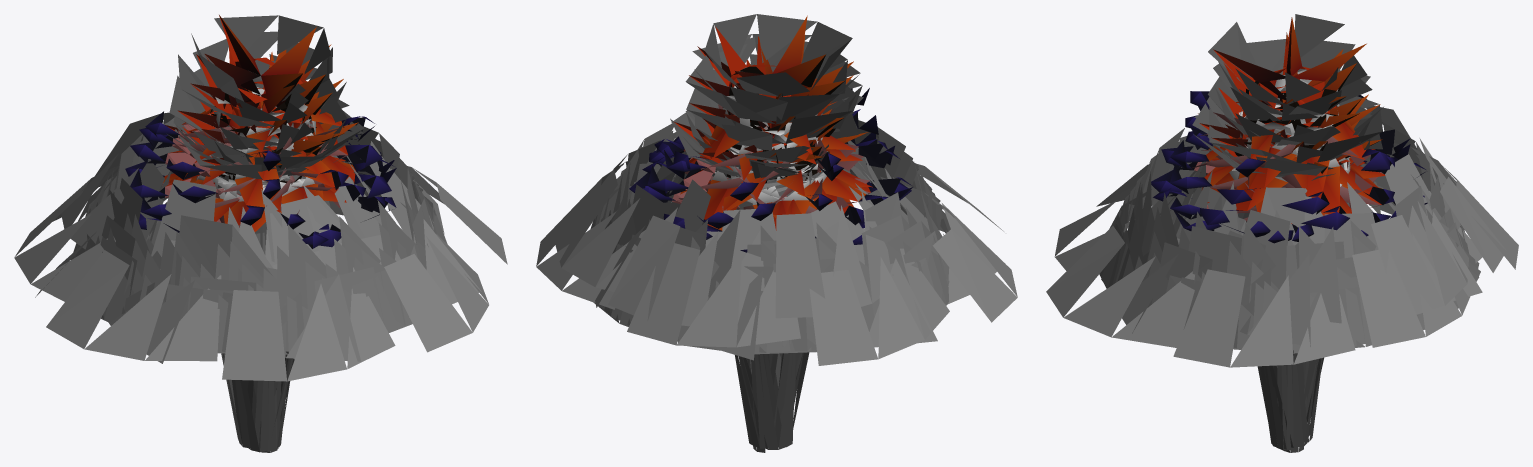
Rendered from spin.glb.
3 views of the same model, side by side, from view 1: azimuth 30°, elevation 25°; view 2: azimuth 150°, elevation 25°; view 3: azimuth 270°, elevation 25° (orthographic).
Visible parts, largest first — view 1: Crash.009, Crash.004, Crash.005, Crash.003, Crash, Crash.007, Crash.008, Crash.002, Crash.006, Crash.001; view 2: Crash.009, Crash.001, Crash.002, Crash.008, Crash, Crash.003, Crash.007, Crash.004, Crash.005, Crash.006; view 3: Crash.009, Crash, Crash.006, Crash.007, Crash.008, Crash.005, Crash.001, Crash.002, Crash.004, Crash.003.
Boxes of the visible parts, x1,y1,x2,y2 form: Crash.009: [61, 15, 413, 366]; Crash.004: [73, 110, 447, 443]; Crash.005: [71, 119, 488, 448]; Crash.003: [35, 101, 436, 361]; Crash: [106, 31, 418, 452]; Crash.007: [96, 60, 444, 451]; Crash.008: [108, 39, 417, 448]; Crash.002: [14, 98, 433, 420]; Crash.006: [88, 99, 507, 452]; Crash.001: [78, 52, 424, 445]; Crash.009: [619, 14, 905, 452]; Crash.001: [595, 54, 932, 422]; Crash.002: [598, 96, 949, 446]; Crash.008: [608, 36, 933, 358]; Crash: [555, 34, 923, 291]; Crash.003: [594, 109, 1017, 448]; Crash.007: [536, 63, 942, 378]; Crash.004: [590, 112, 1005, 449]; Crash.005: [592, 118, 948, 447]; Crash.006: [604, 100, 942, 422]; Crash.009: [1143, 14, 1461, 452]; Crash: [1134, 32, 1468, 446]; Crash.006: [1108, 94, 1469, 419]; Crash.007: [1124, 70, 1470, 445]; Crash.008: [1134, 49, 1506, 450]; Crash.005: [1046, 107, 1479, 396]; Crash.001: [1127, 77, 1518, 449]; Crash.002: [1119, 97, 1482, 447]; Crash.004: [1054, 110, 1480, 436]; Crash.003: [1112, 107, 1479, 442].
Bounding box in the file's own units: 116 × 106 × 113.
